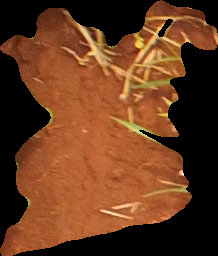soil: (1, 2, 218, 254)
